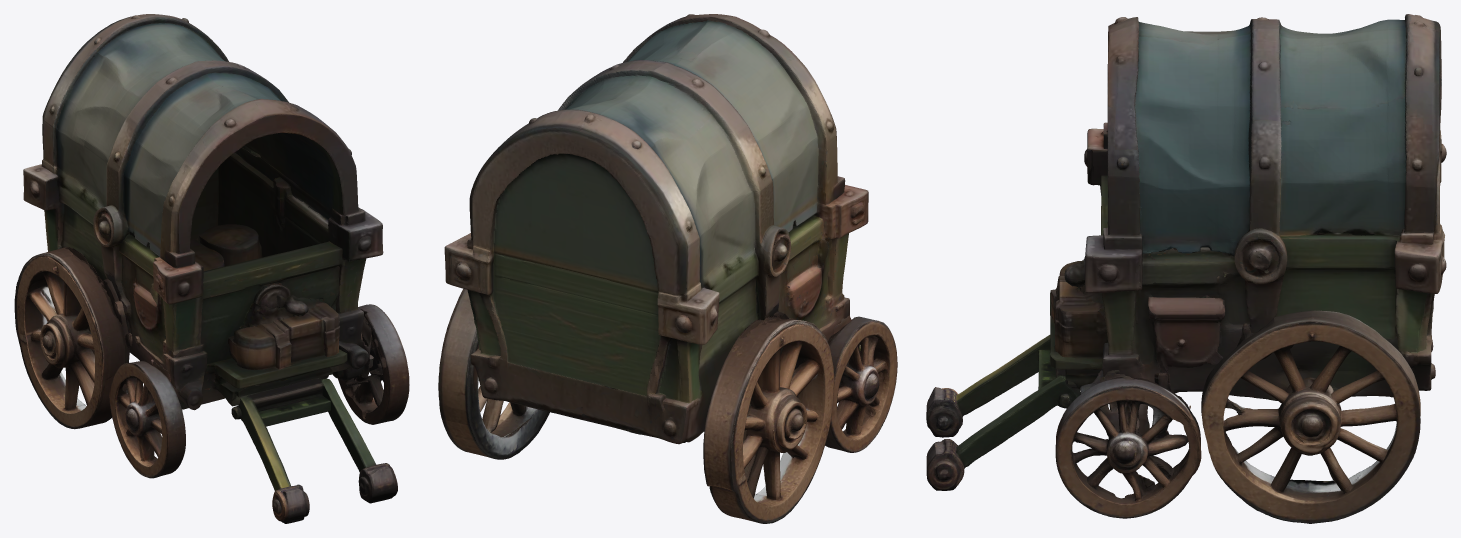
3 views of the same model, side by side, from view 1: azimuth 30°, elevation 25°; view 2: azimuth 150°, elevation 25°; view 3: azimuth 270°, elevation 25° (orthographic). The views are drawn at different scales.
Parts seen in each view (by area): view 1: 0, 5, 1, 3, 2; view 2: 0, 5, 4, 3; view 3: 0, 4, 2, 1.
Part boxes in pixels (left/top/right/bottom): 0: left=23, top=14, right=383, bottom=410; 5: left=14, top=247, right=132, bottom=429; 1: left=231, top=378, right=397, bottom=523; 3: left=109, top=360, right=185, bottom=478; 2: left=338, top=304, right=409, bottom=424; 0: left=444, top=14, right=868, bottom=444; 5: left=703, top=311, right=834, bottom=523; 4: left=438, top=289, right=549, bottom=459; 3: left=825, top=316, right=897, bottom=452; 0: left=1050, top=14, right=1446, bottom=434; 4: left=1201, top=310, right=1420, bottom=523; 2: left=1055, top=373, right=1201, bottom=518; 1: left=926, top=335, right=1080, bottom=490.
Size of the model in its own units: 0.742 by 0.9057 by 0.9839.
6 materials, 6 textured.
